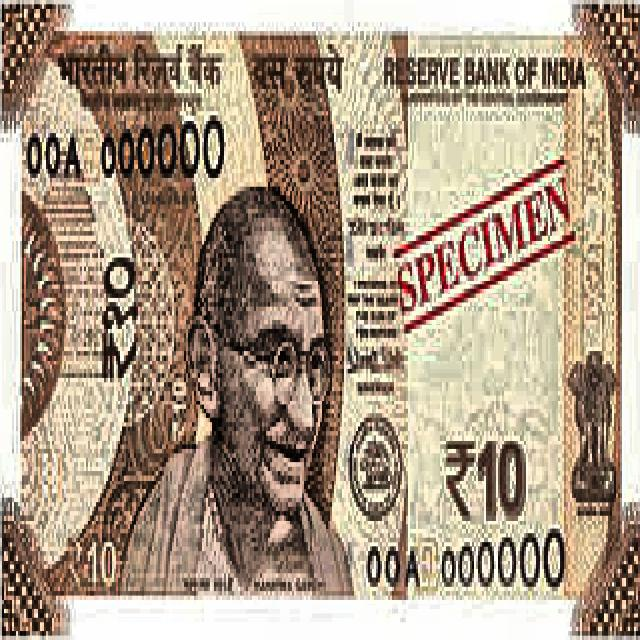-10-: (1, 0, 633, 640)
